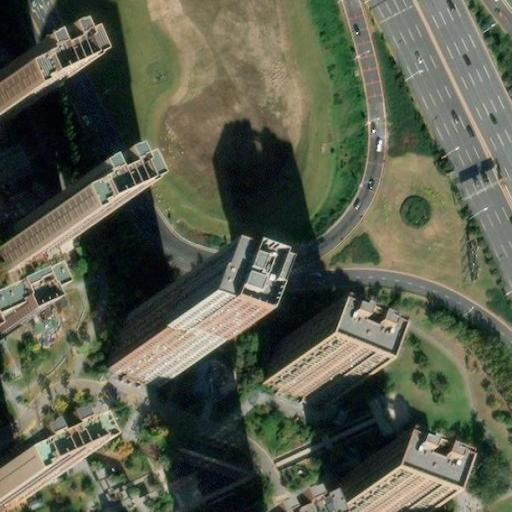building: (103, 315, 182, 391), (261, 347, 342, 412), (0, 216, 64, 270), (325, 474, 403, 512), (0, 473, 23, 503)
